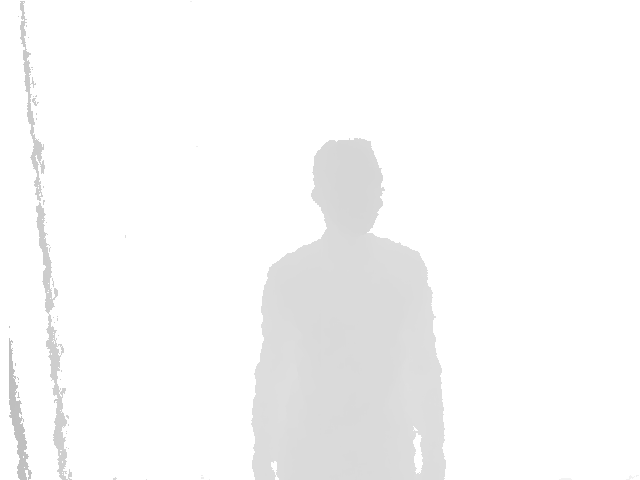head: (311, 138, 384, 235)
person: (249, 139, 450, 480)
